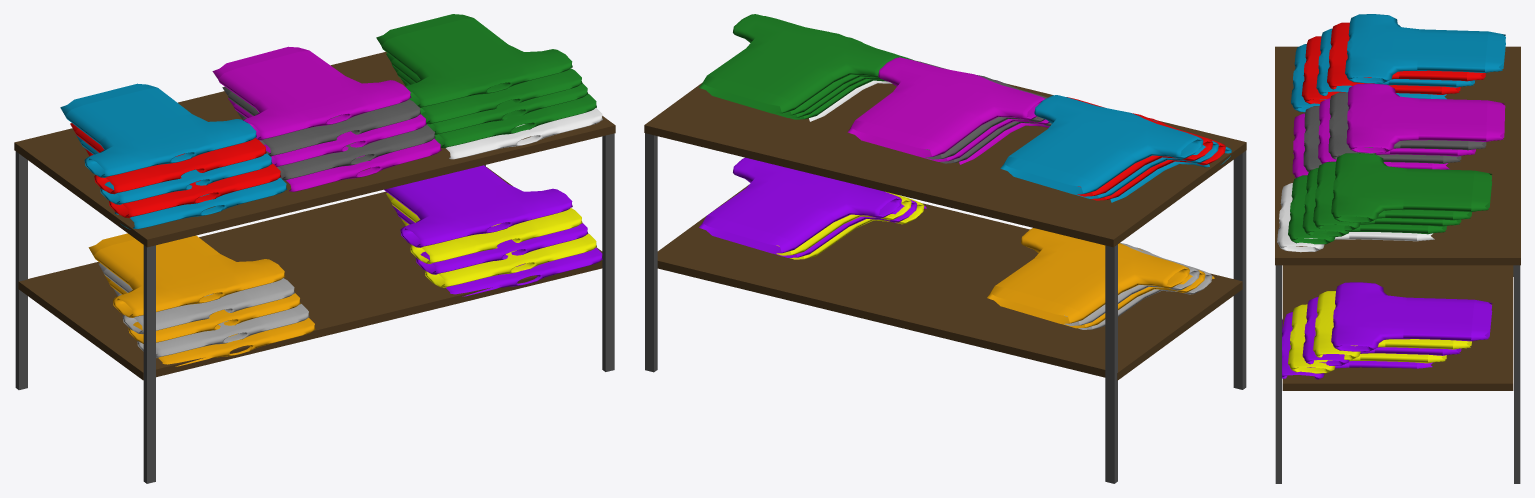
File: ClothesCounter.fbx
3 renders of one model, left to right at view 1: azimuth 30°, elevation 25°; view 2: azimuth 150°, elevation 25°; view 3: azimuth 270°, elevation 25°, orthographic. The views are drawn at different scales.
Visible parts, largest first — view 1: polySurface69; view 2: polySurface69; view 3: polySurface69.
Boxes of the visible parts, box(x1,y1,x2,y2) form: polySurface69: box(14, 14, 615, 483); polySurface69: box(644, 14, 1246, 483); polySurface69: box(1275, 14, 1520, 483).
Bounding box in the file's own units: 2.04 × 1.19 × 1.
